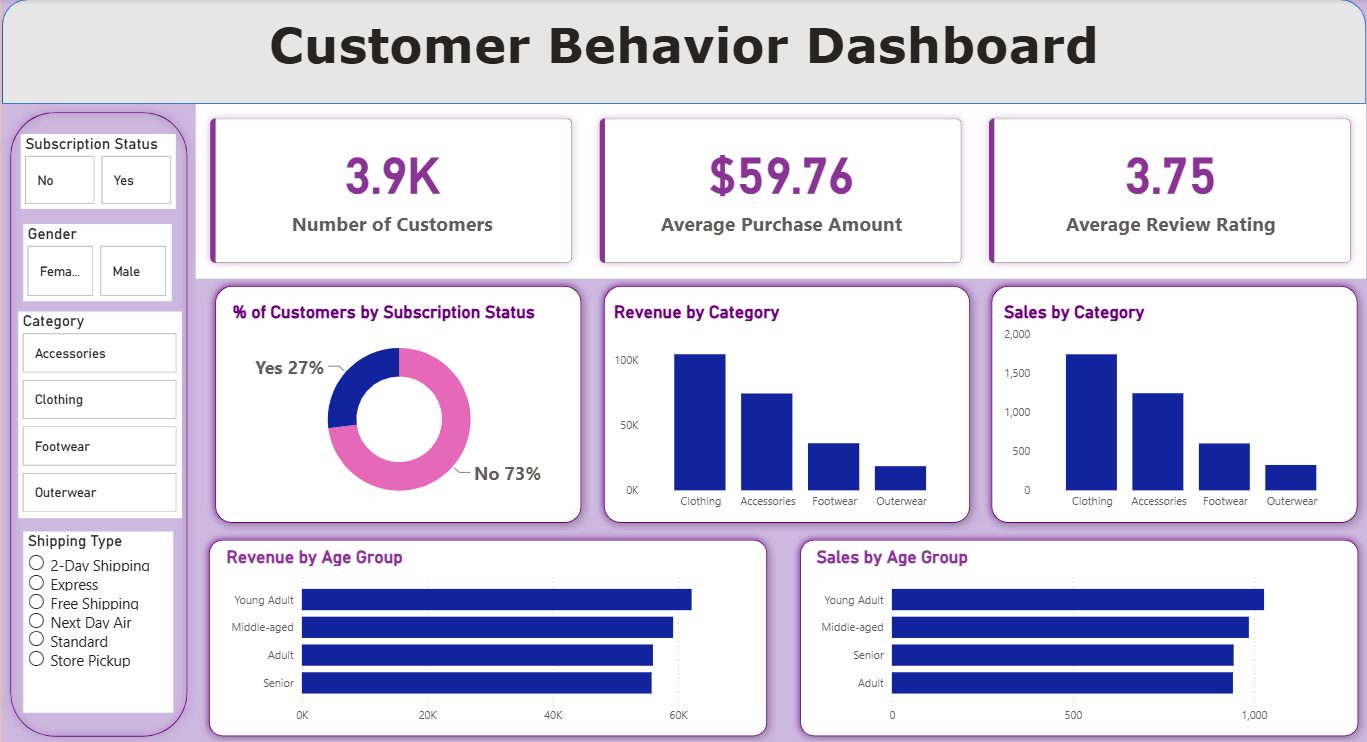

The dashboard page shown, as its layout file describes it:
{"tool":"powerbi","page":{"name":"Page 1","canvas":[1500,820],"ordinal":0},"visuals":[{"type":"cardVisual","fields":{"Data":["public customer.Number of Customers","public customer.Average Purchase Amount","public customer.Average Review Rating"]},"box":[212.9,115.3,1286.5,191.6],"z":2000},{"type":"shape","box":[218.3,585.6,631.7,234.2],"z":2500,"group":"g1"},{"type":"shape","box":[0,0,1499.4,115.3],"z":3000},{"type":"textbox","box":[0,12.4,1499.4,102.9],"z":4000},{"type":"shape","box":[225.4,307,420.5,278.6],"z":5000},{"type":"donutChart","title":"% of Customers by Subscription Status","fields":{"Category":["public customer.subscription_status"],"Y":["CountNonNull(public customer.customer_id)"]},"box":[248.4,331.8,376.2,237.8],"z":6000},{"type":"shape","box":[1078.9,307,420.5,278.6],"z":7000},{"type":"shape","box":[652.1,307,420.5,278.6],"z":8000},{"type":"clusteredColumnChart","title":"Revenue by Category","fields":{"Y":["Sum(public customer.purchase_amount)"],"Category":["public customer.category"]},"box":[667.2,331.8,385.1,237.8],"z":9000},{"type":"clusteredColumnChart","title":"Sales by Category","fields":{"Y":["CountNonNull(public customer.customer_id)"],"Category":["public customer.category"]},"box":[1096.6,331.8,385.1,237.8],"z":10000},{"type":"shape","box":[0,115.3,212.9,704.5],"z":11000},{"type":"advancedSlicerVisual","fields":{"Values":["public customer.subscription_status"]},"box":[19.5,161.5,173.9,85.2],"z":12000},{"type":"advancedSlicerVisual","fields":{"Values":["public customer.gender"]},"box":[19.5,264.6,162.9,85],"z":13000},{"type":"advancedSlicerVisual","fields":{"Values":["public customer.category"]},"box":[13.9,357.9,179.7,227],"z":14000},{"type":"listSlicer","fields":{"Values":["public customer.shipping_type"]},"box":[13.9,600.2,168.5,218.6],"z":15000},{"type":"shape","box":[867.7,585.6,631.7,234.2],"z":16000},{"type":"clusteredBarChart","title":"Sales by Age Group","fields":{"Y":["CountNonNull(public customer.customer_id)"],"Category":["public customer.age_group"]},"box":[890.8,601.5,585.6,204.1],"z":17000},{"type":"clusteredBarChart","title":"Revenue by Age Group","fields":{"Y":["Sum(public customer.purchase_amount)"],"Category":["public customer.age_group"]},"box":[241.4,601.6,585.6,204.1],"z":17500,"group":"g1"},{"type":"group","id":"g1","title":"Group 1","box":[218.3,585.6,631.7,234.2],"z":17501}]}

Visuals, with their boxes in screenshot pixels (x1, y1, x2, y2), scaled from the page's 1500x820 canvas onto the 1367x742 screenshot:
cardVisual - public customer.Number of Customers x public customer.Average Purchase Amount: {"left": 194, "top": 104, "right": 1366, "bottom": 278}
shape: {"left": 199, "top": 530, "right": 775, "bottom": 741}
shape: {"left": 0, "top": 0, "right": 1366, "bottom": 104}
textbox: {"left": 0, "top": 11, "right": 1366, "bottom": 104}
shape: {"left": 205, "top": 278, "right": 589, "bottom": 530}
"% of Customers by Subscription Status" donutChart: {"left": 226, "top": 300, "right": 569, "bottom": 515}
shape: {"left": 983, "top": 278, "right": 1366, "bottom": 530}
shape: {"left": 594, "top": 278, "right": 977, "bottom": 530}
"Revenue by Category" clusteredColumnChart: {"left": 608, "top": 300, "right": 959, "bottom": 515}
"Sales by Category" clusteredColumnChart: {"left": 999, "top": 300, "right": 1350, "bottom": 515}
shape: {"left": 0, "top": 104, "right": 194, "bottom": 741}
advancedSlicerVisual - public customer.subscription_status: {"left": 18, "top": 146, "right": 176, "bottom": 223}
advancedSlicerVisual - public customer.gender: {"left": 18, "top": 239, "right": 166, "bottom": 316}
advancedSlicerVisual - public customer.category: {"left": 13, "top": 324, "right": 176, "bottom": 529}
listSlicer - public customer.shipping_type: {"left": 13, "top": 543, "right": 166, "bottom": 741}
shape: {"left": 791, "top": 530, "right": 1366, "bottom": 741}
"Sales by Age Group" clusteredBarChart: {"left": 812, "top": 544, "right": 1345, "bottom": 729}
"Revenue by Age Group" clusteredBarChart: {"left": 220, "top": 544, "right": 754, "bottom": 729}
"Group 1" group: {"left": 199, "top": 530, "right": 775, "bottom": 741}
